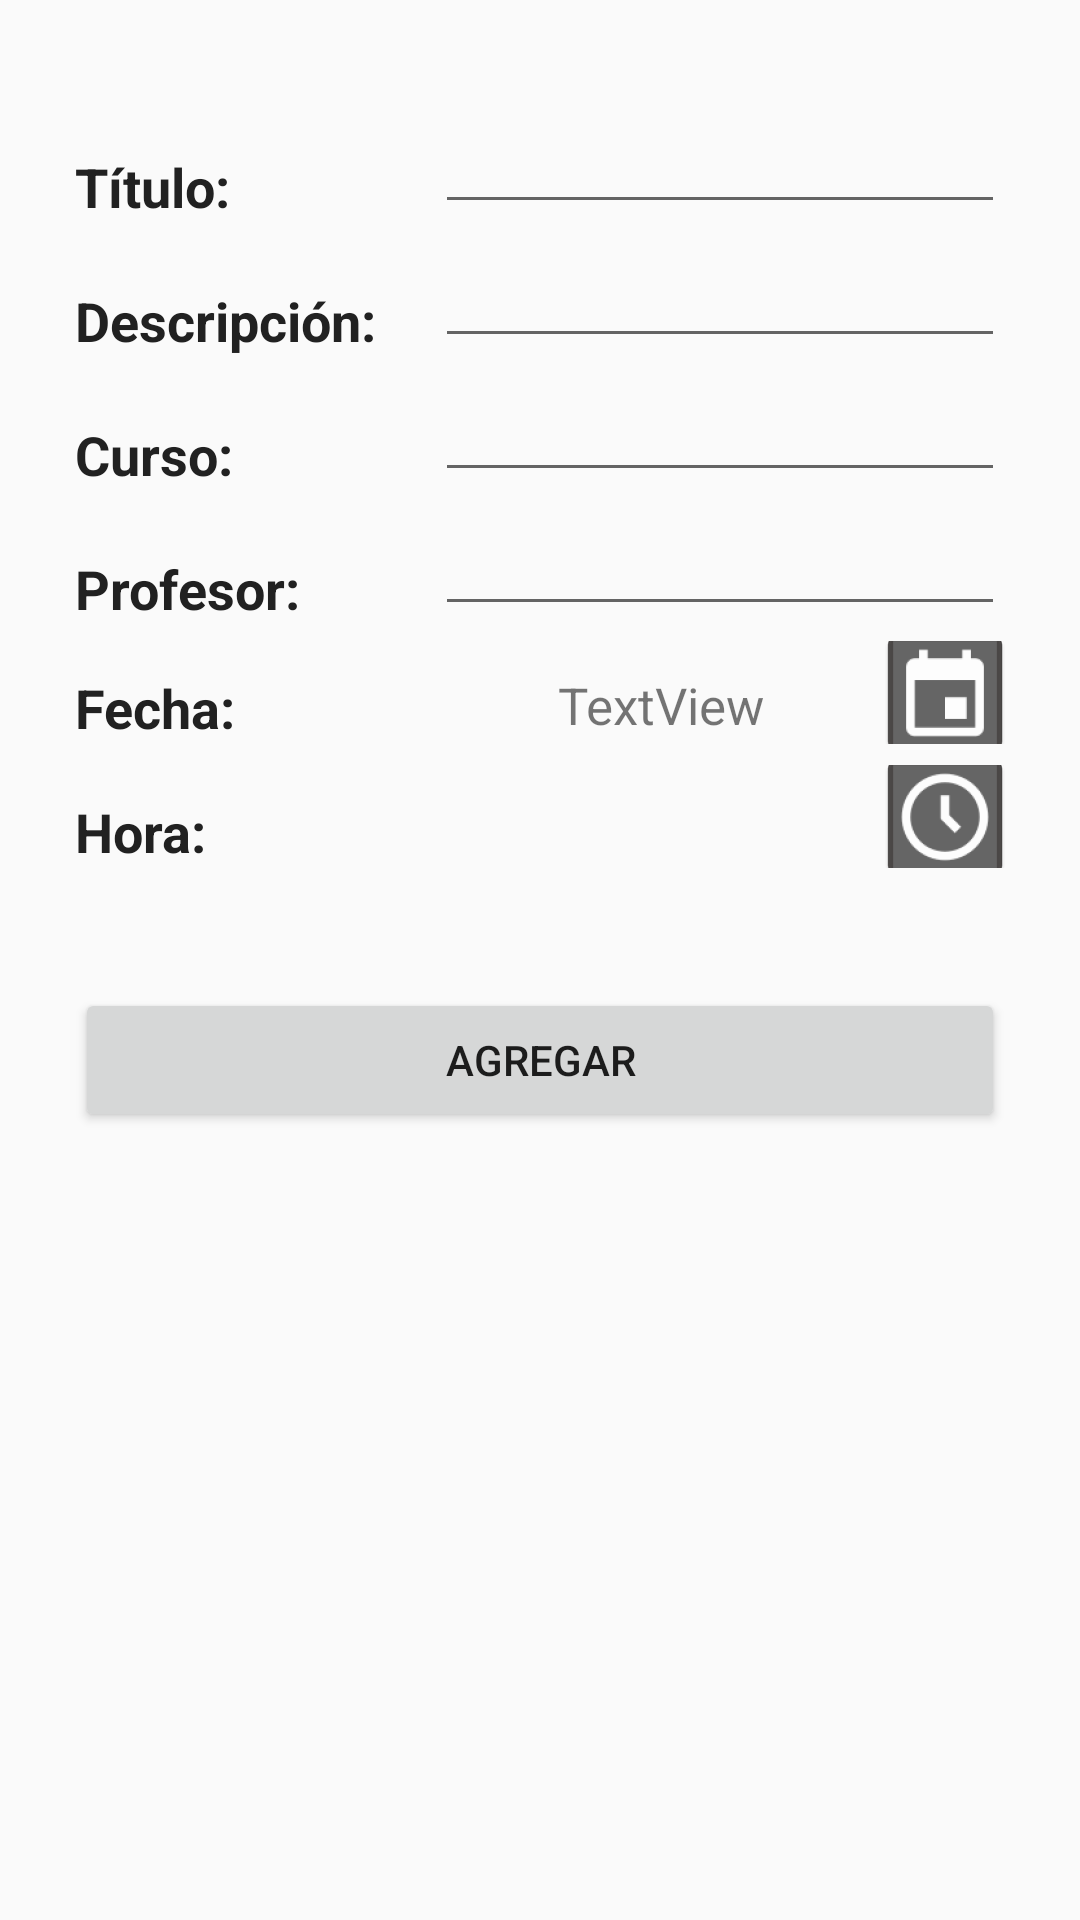

Icons on this 1080 x 1920 Android screen, each with its box as box(x1, y1, x2, y2):
calendar: box(887, 641, 1003, 744)
hour: box(887, 765, 1003, 868)
